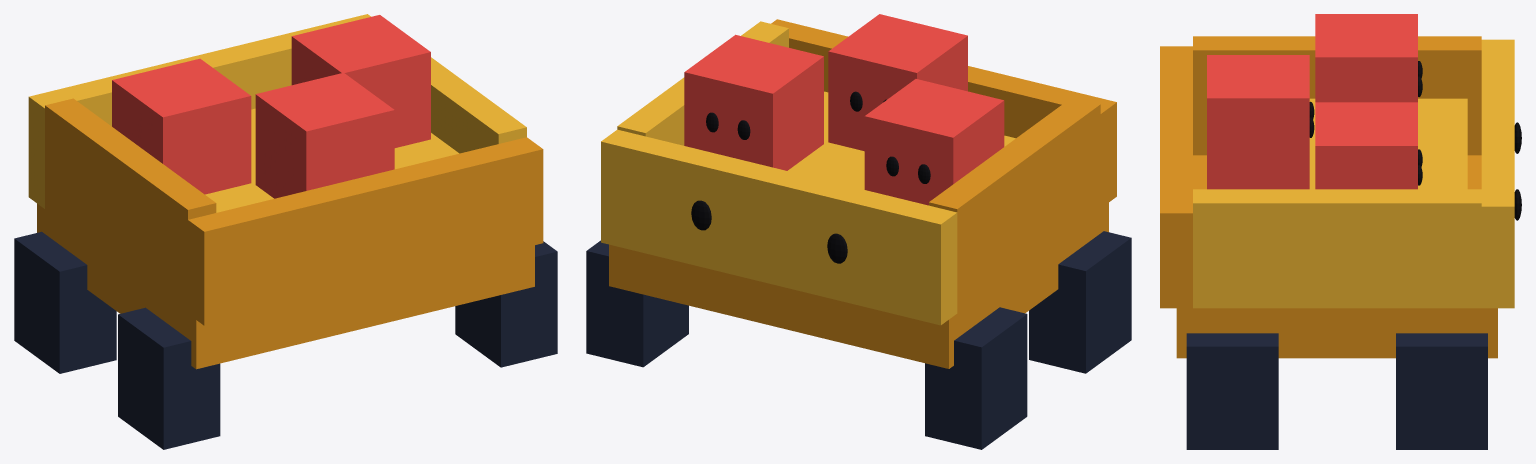
Rendered from CarrierCart_Enemy.obj.
3 renders of one model, left to right at view 1: azimuth 30°, elevation 25°; view 2: azimuth 150°, elevation 25°; view 3: azimuth 270°, elevation 25°, orthographic.
Parts seen in each view (by area): view 1: WallBack, BedBase, WallLeft, BotRear, BotLeft, WheelRearLeft, WheelFrontLeft, BotRight, WallFront, WheelRearRight, WallRight, BedFloor; view 2: WallFront, BedBase, WallLeft, BotRight, BotLeft, WheelFrontLeft, BotRear, WheelRearLeft, WheelFrontRight, WallBack, WallRight, BedFloor; view 3: WallRight, BotRear, BedBase, WheelRearRight, WheelFrontRight, WallFront, BotLeft, BotRight, WallLeft, WallBack, BedFloor.
Boxes of the visible parts, left/top/right/bottom form: WallBack: left=188, top=137, right=543, bottom=325; BedBase: left=37, top=203, right=534, bottom=369; WallLeft: left=45, top=98, right=216, bottom=313; BotRear: left=255, top=72, right=394, bottom=198; BotLeft: left=112, top=58, right=251, bottom=194; WheelRearLeft: left=118, top=307, right=220, bottom=449; WheelFrontLeft: left=14, top=231, right=116, bottom=373; BotRight: left=291, top=15, right=430, bottom=147; WallFront: left=28, top=14, right=370, bottom=208; WheelRearRight: left=455, top=241, right=557, bottom=367; WallRight: left=431, top=57, right=526, bottom=153; BedFloor: left=205, top=108, right=459, bottom=212; WallFront: left=601, top=129, right=957, bottom=325; BedBase: left=609, top=202, right=1108, bottom=368; WallLeft: left=929, top=97, right=1100, bottom=312; BotRight: left=684, top=34, right=823, bottom=170; BotLeft: left=864, top=79, right=1004, bottom=205; WheelFrontLeft: left=925, top=307, right=1027, bottom=449; BotRear: left=828, top=14, right=967, bottom=151; WheelRearLeft: left=1029, top=231, right=1131, bottom=373; WheelFrontRight: left=586, top=240, right=688, bottom=367; WallBack: left=771, top=19, right=1116, bottom=207; WallRight: left=617, top=21, right=788, bottom=145; BedFloor: left=788, top=91, right=1015, bottom=189; WallRight: left=1193, top=189, right=1481, bottom=308; BotRear: left=1207, top=55, right=1309, bottom=189; BedBase: left=1176, top=155, right=1497, bottom=358; WheelRearRight: left=1186, top=333, right=1278, bottom=449; WheelFrontRight: left=1396, top=333, right=1487, bottom=449; WallFront: left=1481, top=39, right=1514, bottom=308; BotLeft: left=1315, top=14, right=1417, bottom=102; BotRight: left=1315, top=102, right=1417, bottom=189; WallLeft: left=1193, top=36, right=1481, bottom=155; WallBack: left=1160, top=46, right=1192, bottom=308; BedFloor: left=1309, top=98, right=1467, bottom=189.
Size of the model in its own units: 2.5 by 1.66 by 1.97.
